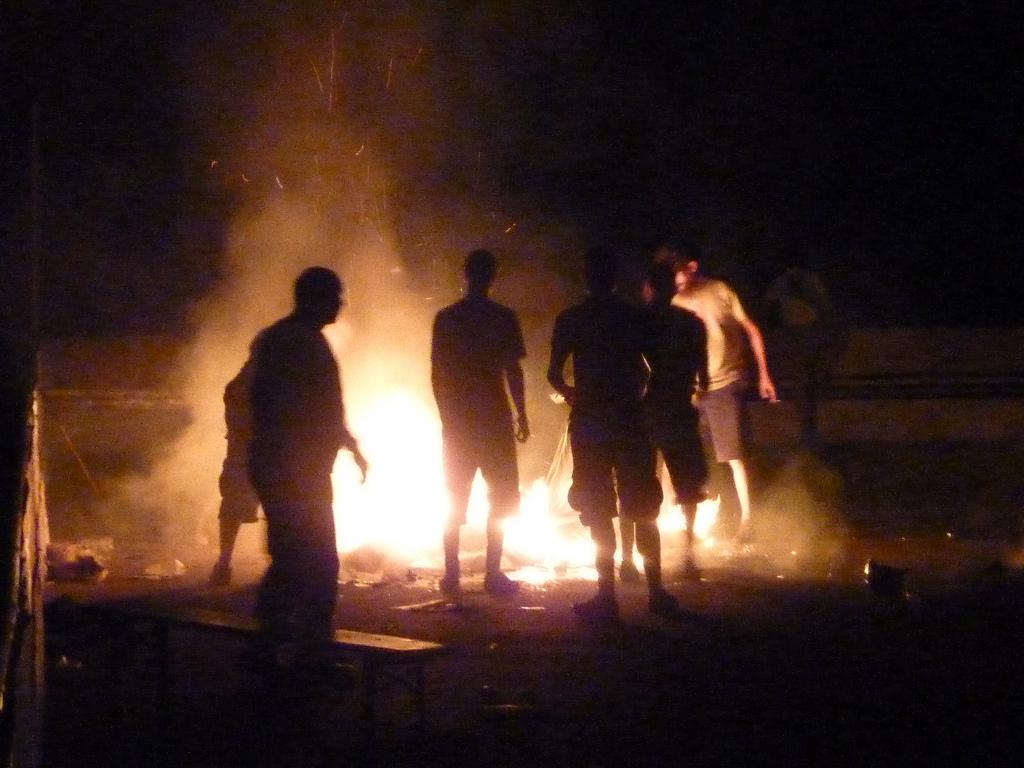fire: (358, 388, 450, 554), (524, 496, 592, 584)
